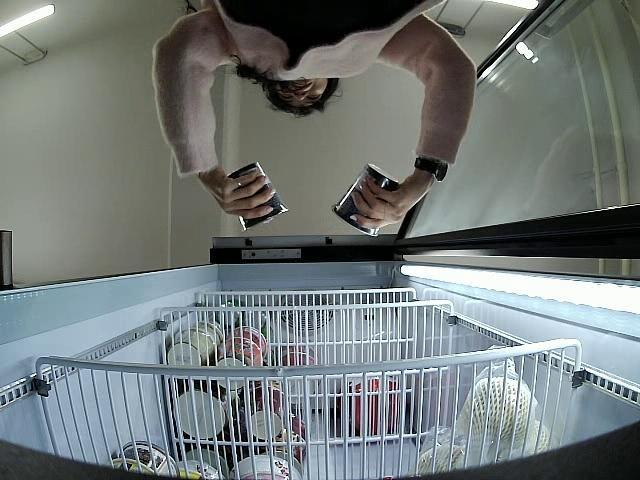08_buldak_S: (330, 163, 400, 239), (227, 160, 289, 228)
